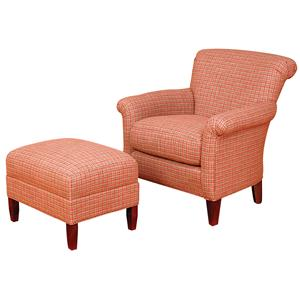chairs: (114, 46, 299, 228), (4, 135, 143, 252)
